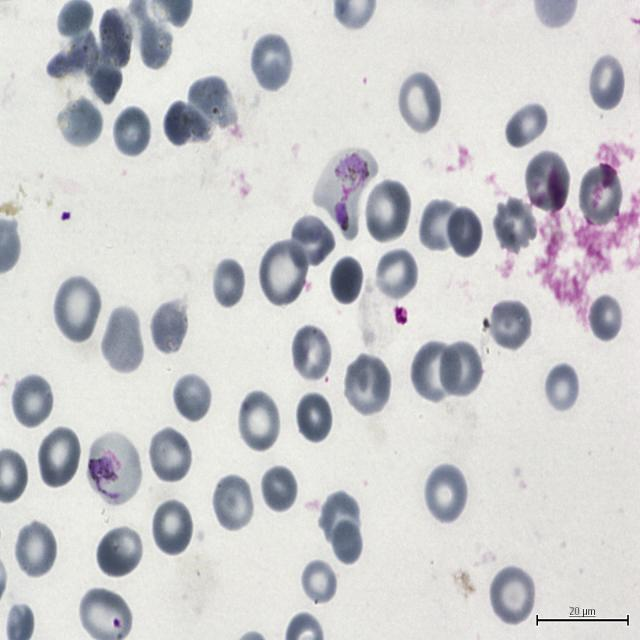red blood cell: (258, 239, 308, 309), (53, 274, 102, 344), (410, 338, 461, 405), (184, 72, 238, 134), (342, 353, 392, 418), (364, 178, 412, 244), (396, 71, 444, 136), (578, 160, 624, 227), (100, 304, 144, 374), (489, 563, 537, 627), (36, 424, 82, 490), (94, 518, 146, 576), (524, 150, 569, 217), (236, 389, 282, 454), (423, 462, 469, 526), (286, 214, 336, 272), (147, 425, 194, 485), (248, 31, 294, 92), (150, 496, 195, 558), (45, 33, 100, 83), (13, 519, 58, 580), (211, 472, 256, 533), (10, 372, 56, 431), (438, 338, 483, 398), (83, 42, 123, 108), (57, 96, 104, 152), (487, 297, 533, 353), (373, 246, 419, 302), (290, 323, 332, 384), (95, 7, 134, 72), (586, 52, 627, 113), (317, 489, 360, 545), (149, 298, 189, 357), (504, 100, 550, 151), (112, 104, 152, 159), (172, 371, 213, 424), (294, 390, 334, 444), (419, 200, 462, 250), (542, 361, 581, 416), (495, 202, 536, 252), (210, 255, 247, 310), (299, 556, 339, 606), (586, 291, 624, 343), (259, 463, 298, 513), (327, 254, 364, 306), (446, 207, 482, 259), (139, 14, 172, 69), (163, 101, 205, 143), (331, 516, 363, 565), (56, 0, 93, 38)
trophozoite: (314, 146, 379, 240), (86, 434, 142, 505)
